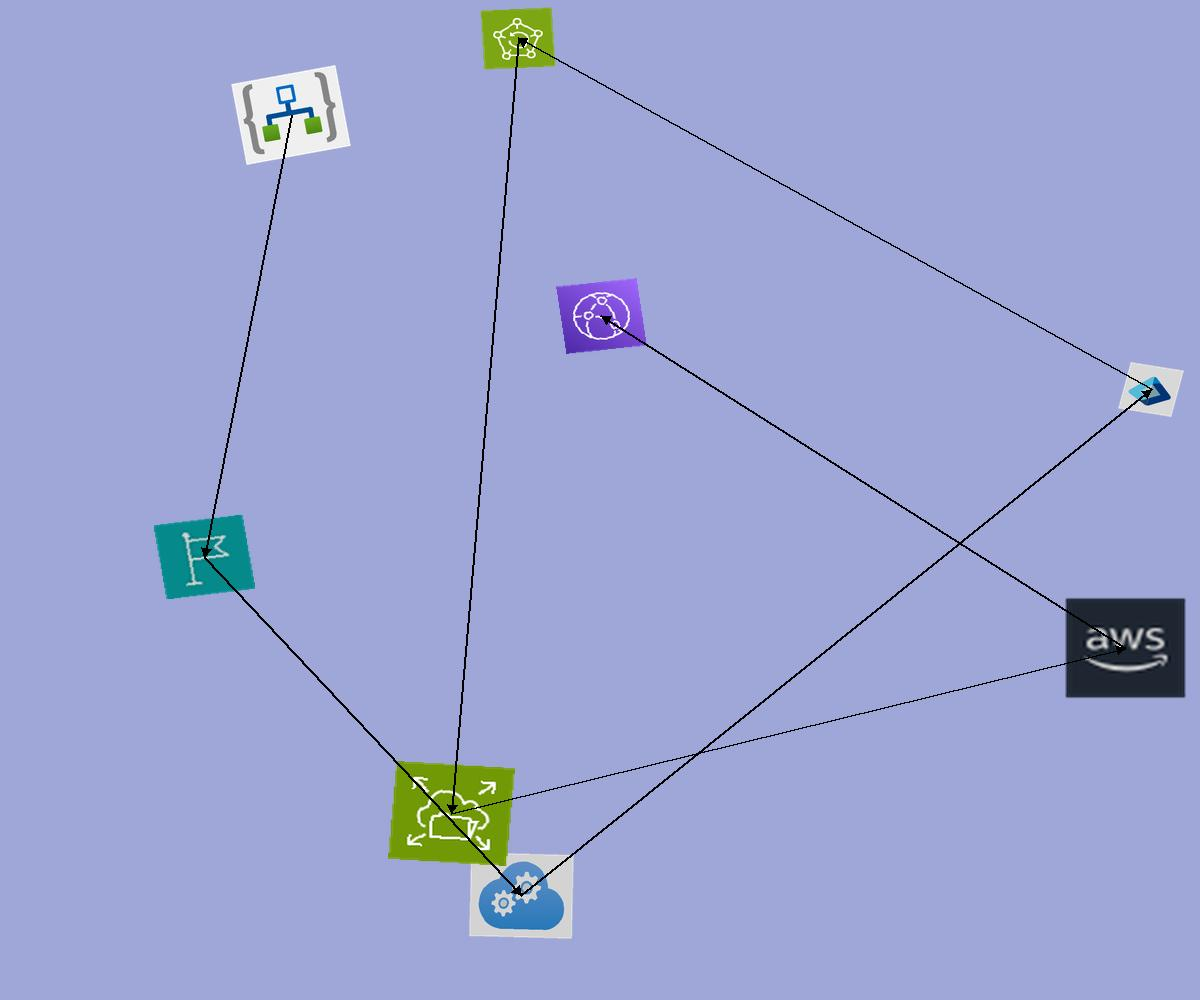AWS-Backup: (480, 7, 556, 70)
AWS-Cloud-logo: (1063, 596, 1188, 700)
AWS-CloudFront: (556, 278, 647, 354)
AWS-EFS: (388, 761, 515, 866)
AWS-Region: (153, 514, 256, 600)
Azure_cloud_services: (469, 852, 574, 939)
Azure_integration-204-Logic-Apps: (231, 65, 351, 165)
Azure_microsoft_entra: (1118, 362, 1184, 417)
